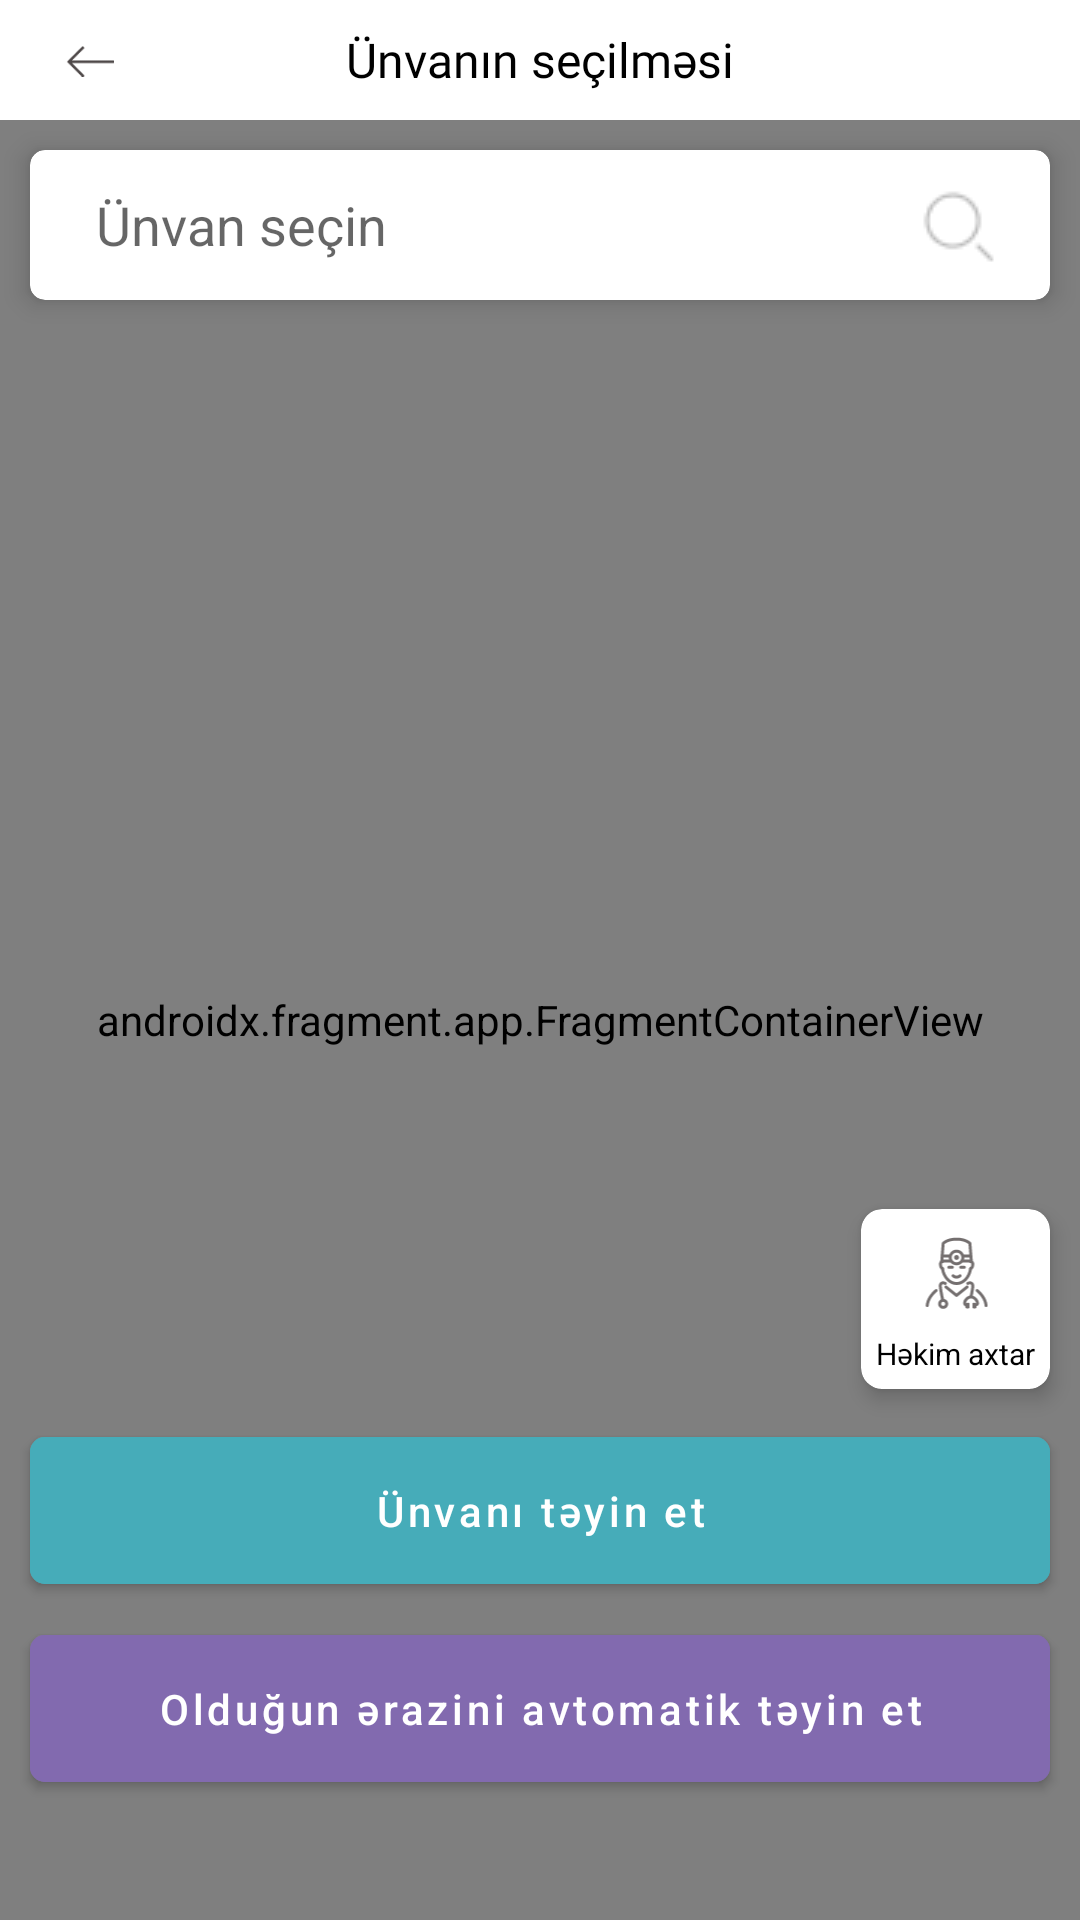

Icon bounding boxes for this 1080px×1920px phone screenshot, format (x1, y1, x2, y2):
back: (67, 46, 114, 77)
call doctor: (925, 1237, 988, 1309)
search: (925, 193, 993, 261)
